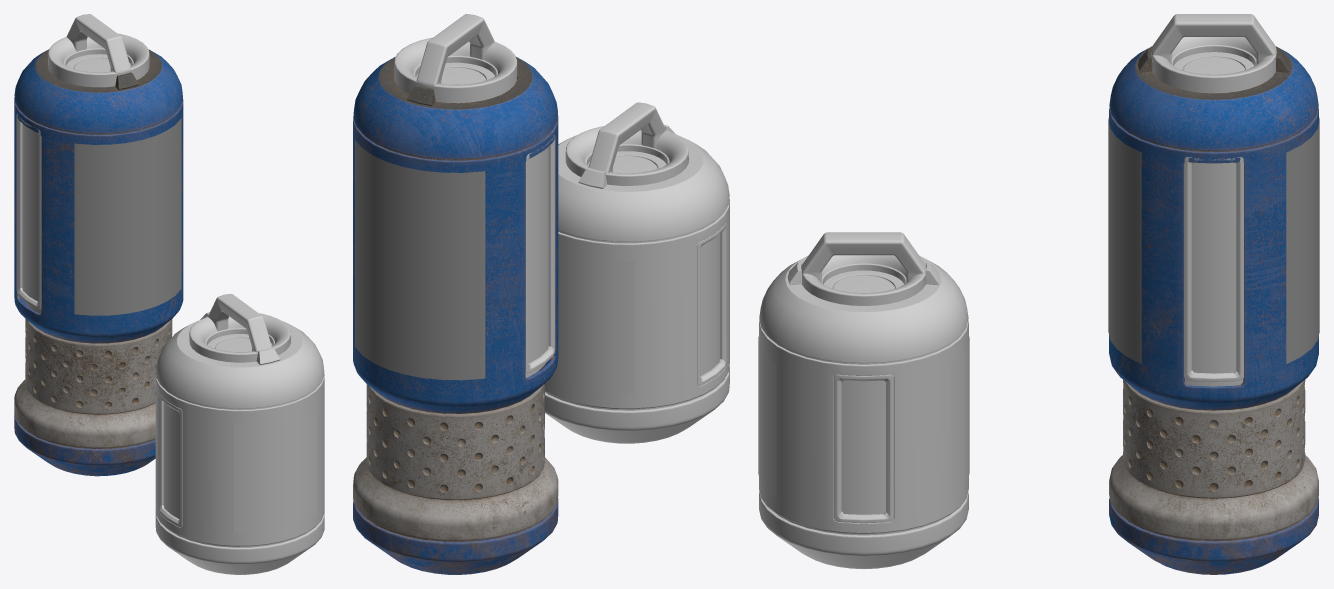
File: Shield.obj
3 views of the same model, side by side, from view 1: azimuth 30°, elevation 25°; view 2: azimuth 150°, elevation 25°; view 3: azimuth 270°, elevation 25° (orthographic). The views are drawn at different scales.
Visible parts, largest first — view 1: Main_Battery, Main, Decal_Battery, Decal, Rid_Battery, Rid, Inside_Battery, Metal_Flame_Battery, Inside, Metal_Flame; view 2: Main_Battery, Main, Decal_Battery, Decal, Rid_Battery, Rid, Inside_Battery, Metal_Flame_Battery, Inside, Metal_Flame; view 3: Main_Battery, Main, Decal_Battery, Inside_Battery, Rid_Battery, Rid, Inside, Decal, Metal_Flame_Battery, Metal_Flame.
Part boxes in pixels (x1,y1,x2,y2): Main_Battery: [14, 49, 183, 476]; Main: [155, 312, 324, 574]; Decal_Battery: [74, 118, 181, 315]; Decal: [232, 404, 317, 533]; Rid_Battery: [48, 14, 149, 87]; Rid: [189, 294, 290, 362]; Inside_Battery: [22, 123, 41, 313]; Metal_Flame_Battery: [16, 114, 41, 309]; Inside: [163, 402, 179, 519]; Metal_Flame: [158, 393, 182, 527]; Main_Battery: [353, 57, 558, 574]; Main: [544, 124, 729, 443]; Decal_Battery: [355, 139, 485, 380]; Decal: [550, 250, 636, 392]; Rid_Battery: [394, 14, 517, 103]; Rid: [565, 102, 688, 185]; Inside_Battery: [525, 147, 548, 377]; Metal_Flame_Battery: [525, 135, 555, 373]; Inside: [700, 233, 719, 375]; Metal_Flame: [697, 223, 726, 385]; Main_Battery: [1109, 46, 1318, 574]; Main: [759, 256, 968, 569]; Decal_Battery: [1108, 117, 1319, 363]; Inside_Battery: [1185, 162, 1243, 386]; Rid_Battery: [1151, 14, 1276, 93]; Rid: [801, 232, 926, 305]; Inside: [841, 380, 885, 514]; Decal: [758, 336, 969, 498]; Metal_Flame_Battery: [1184, 157, 1243, 381]; Metal_Flame: [834, 374, 893, 523].
Size of the model in its own units: 6 by 16.82 by 16.04.
